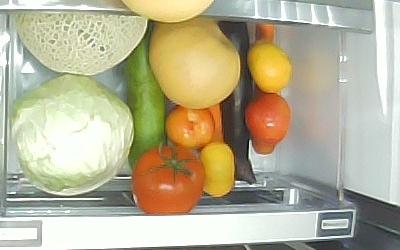cabbage: (11, 75, 135, 196)
carrot: (252, 20, 276, 155)
eggplant: (218, 20, 257, 186)
melon: (14, 15, 147, 76)
pear: (147, 16, 240, 110)
prune: (244, 95, 291, 141), (163, 106, 214, 146)
tangerine: (248, 41, 293, 94), (202, 142, 235, 198)
tomato: (132, 145, 206, 214)
zucchini: (120, 38, 167, 170)
